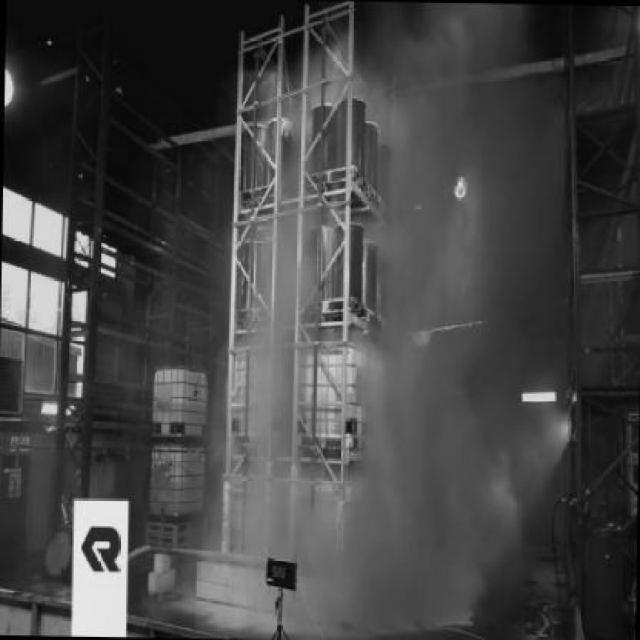fire: (357, 19, 552, 536), (210, 180, 312, 528)
